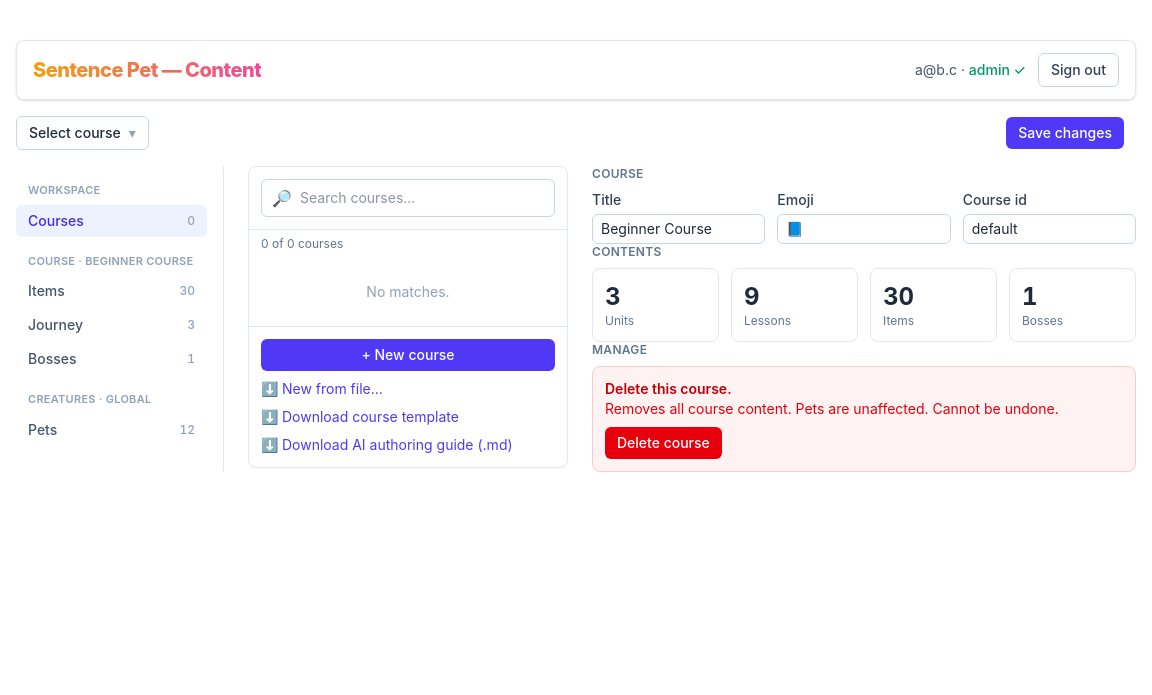
Test case: AdminShell › hides the course Save changes bar on the global Pets surface (PetsTab owns its own SaveBar)
Step 1. Click the tab "Pets 12" → (112, 430), box [16,414,207,446]
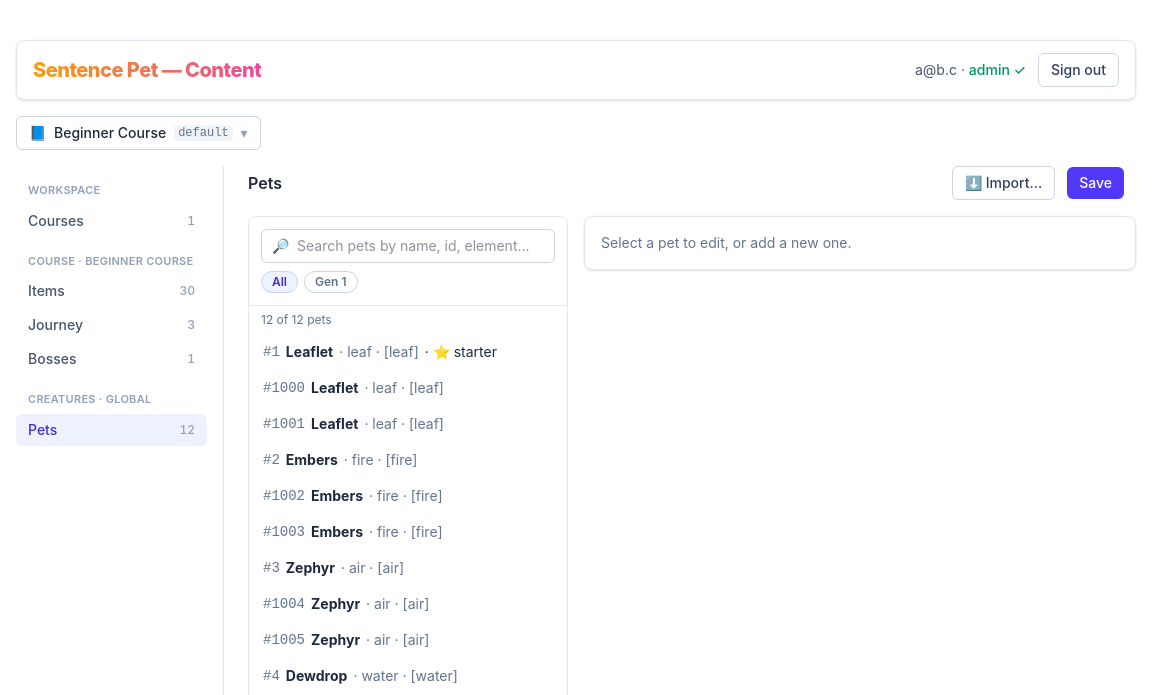
Expected: the button "Save changes" is gone
